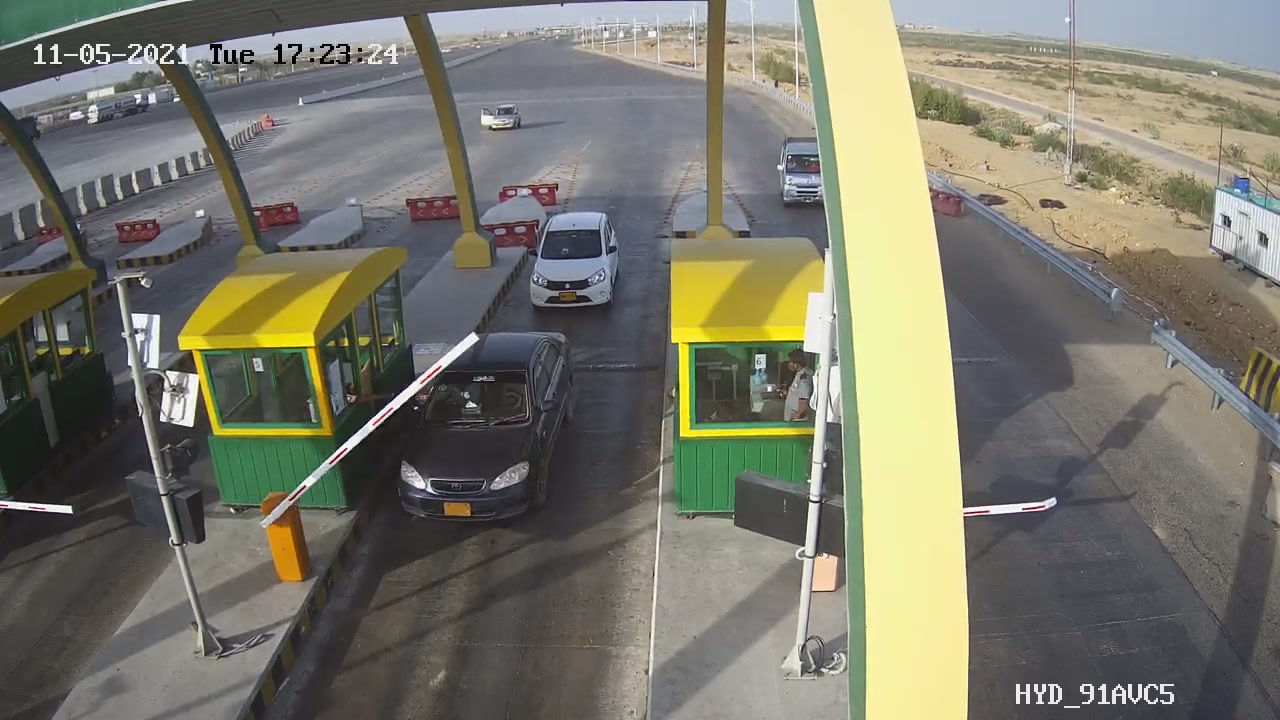F1: (382, 316, 595, 539), (511, 199, 637, 326)
